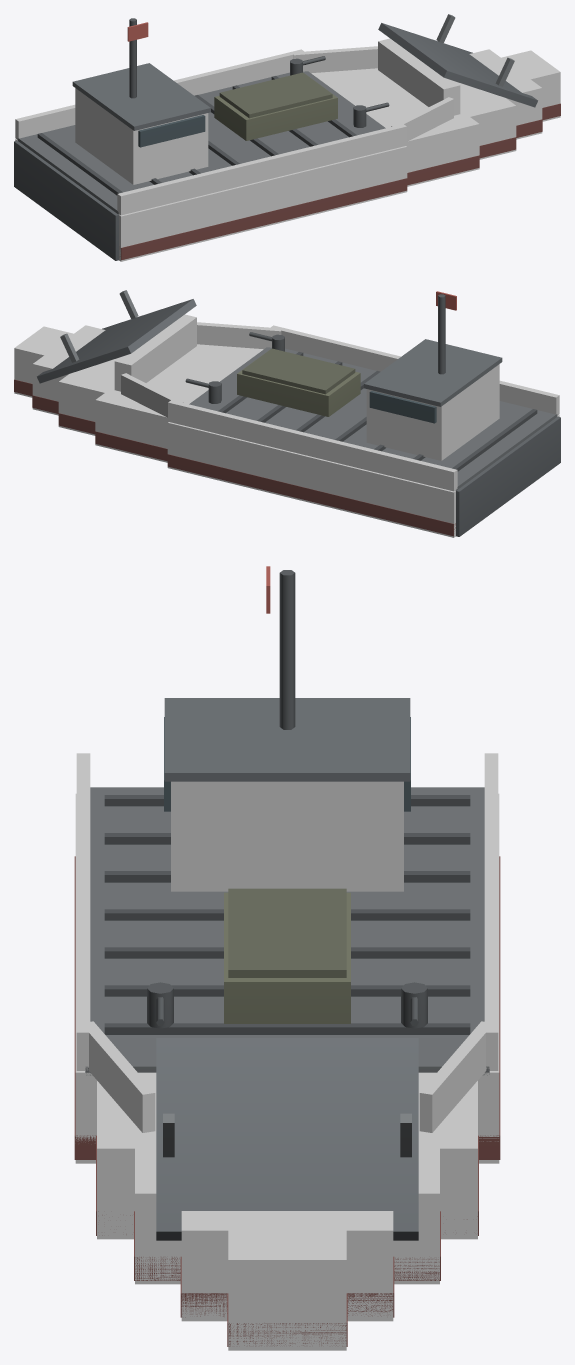
File: m_lander_50396976.glb
The picture shows the model from 3 angles, top to bottom: view 1: azimuth 30°, elevation 25°; view 2: azimuth 150°, elevation 25°; view 3: azimuth 270°, elevation 25°; orthographic projection. The views are drawn at different scales.
Parts seen in each view (by area): view 1: mesh; view 2: mesh; view 3: mesh.
Part boxes in pixels (x1,y1,x2,y2): mesh: [14, 14, 560, 261]; mesh: [14, 290, 560, 537]; mesh: [74, 566, 500, 1350].
Size of the model in its own units: 57.72 by 21.5 by 22.1.
